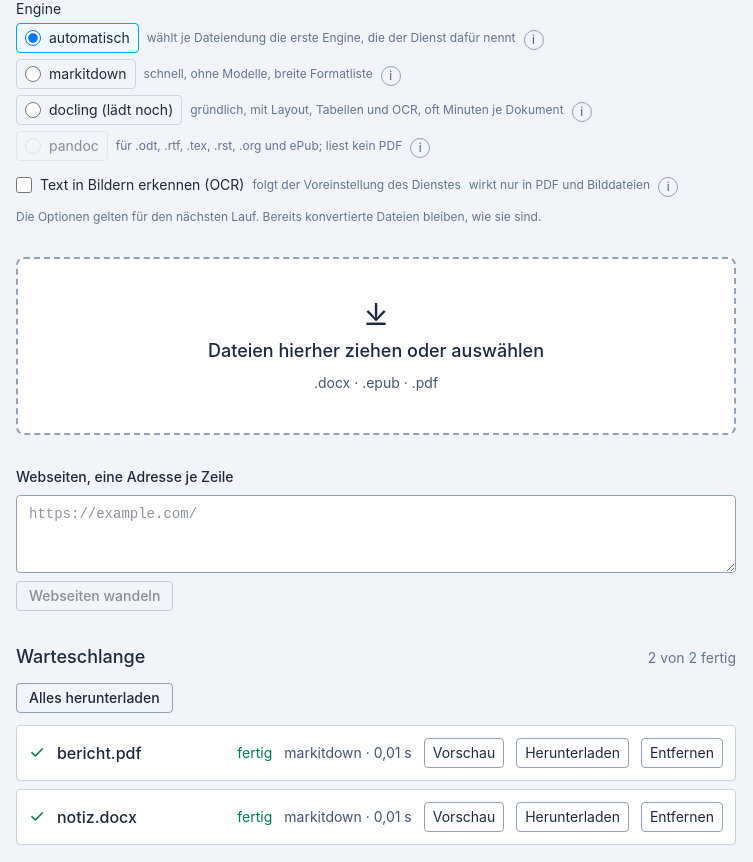
Test: App › nimmt Dateien aus der Dropzone an und reicht die Vorschau bis in die Zeile durch
(page scrolled)
expect the text with test id "progress" reads "2 von 2 fertig": met, box [648, 649, 736, 666]
Click the button "Vorschau" in the row of "bericht.pdf". click: [464, 753]
box: [424, 738, 504, 768]
(page scrolled)
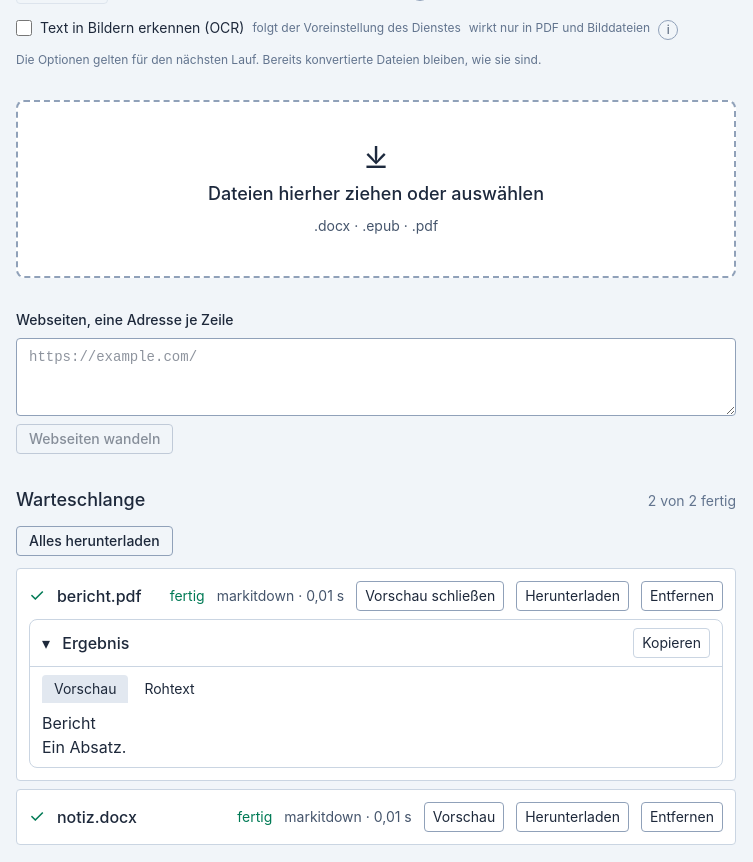
expect the panel with test id "rendered" is shown: met, box [42, 713, 126, 757]
